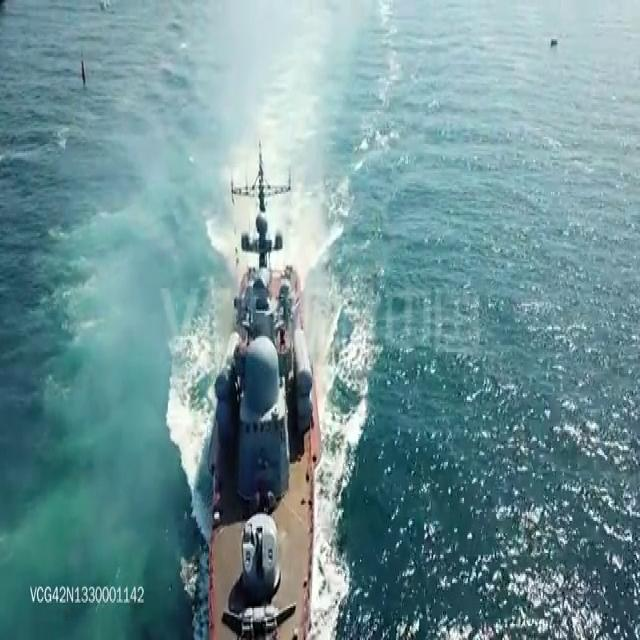navalvessels: (201, 135, 322, 640)
